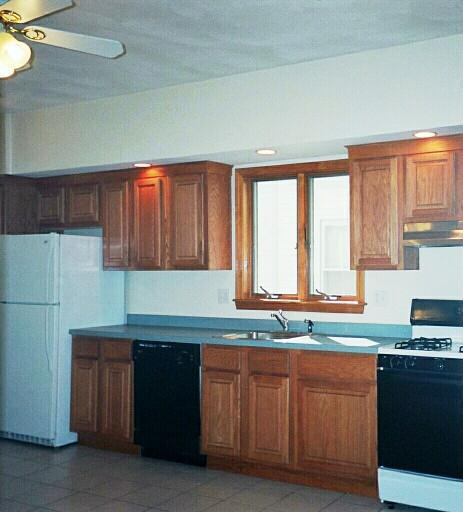Electrodomestico: (379, 319, 462, 508), (3, 237, 74, 446), (138, 340, 203, 466)
Lavamanos: (221, 309, 309, 349)
